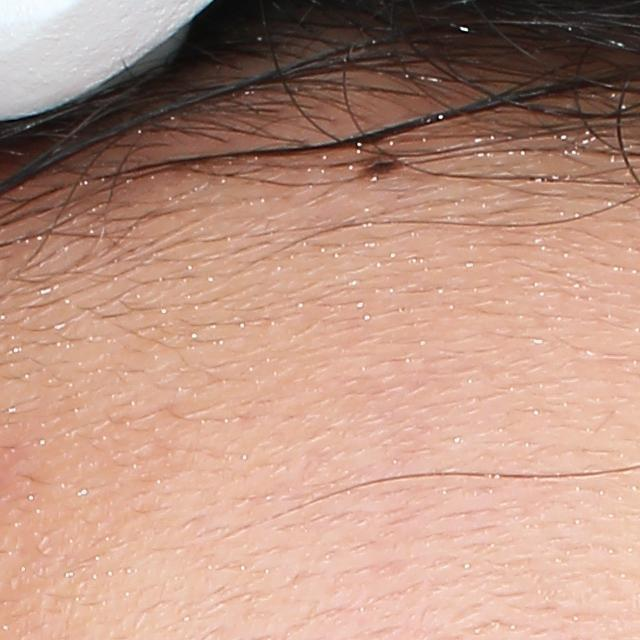nevus: (358, 143, 400, 178)
